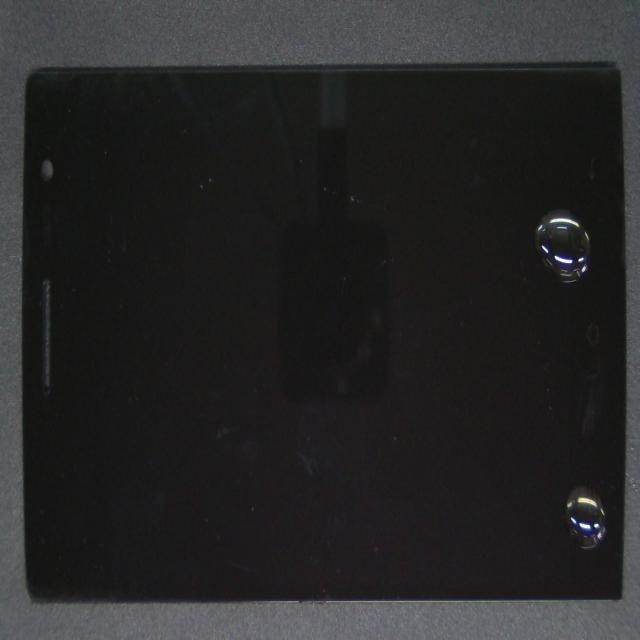oil: (314, 264, 640, 640), (317, 137, 640, 349)
